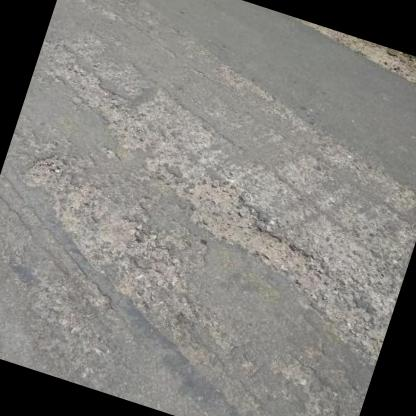pothole: (173, 174, 328, 284), (64, 68, 171, 154), (21, 146, 73, 194)
